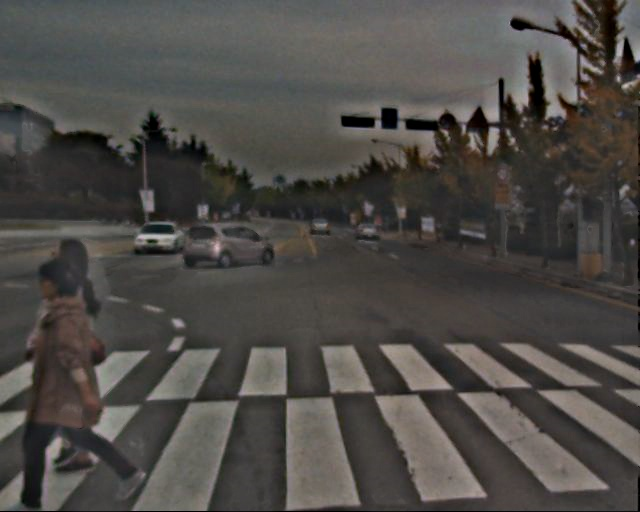person: (16, 259, 129, 499), (29, 235, 138, 467)
